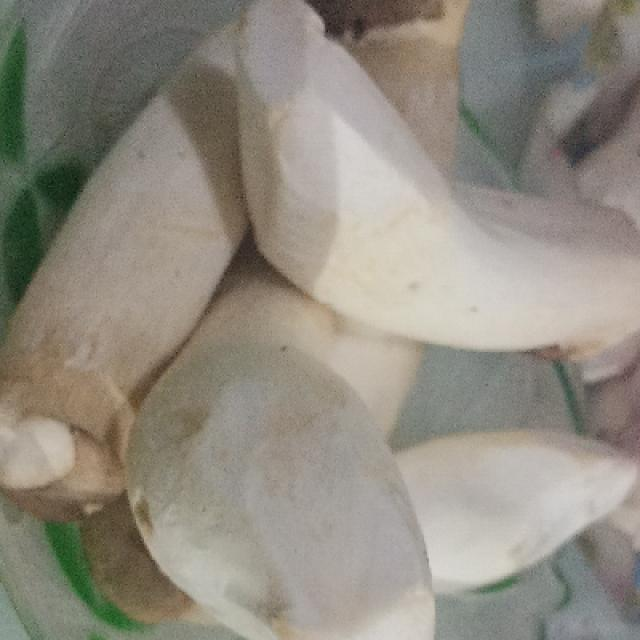Pleurotus eryngii: (213, 0, 640, 363), (0, 30, 261, 507), (90, 352, 452, 640)
